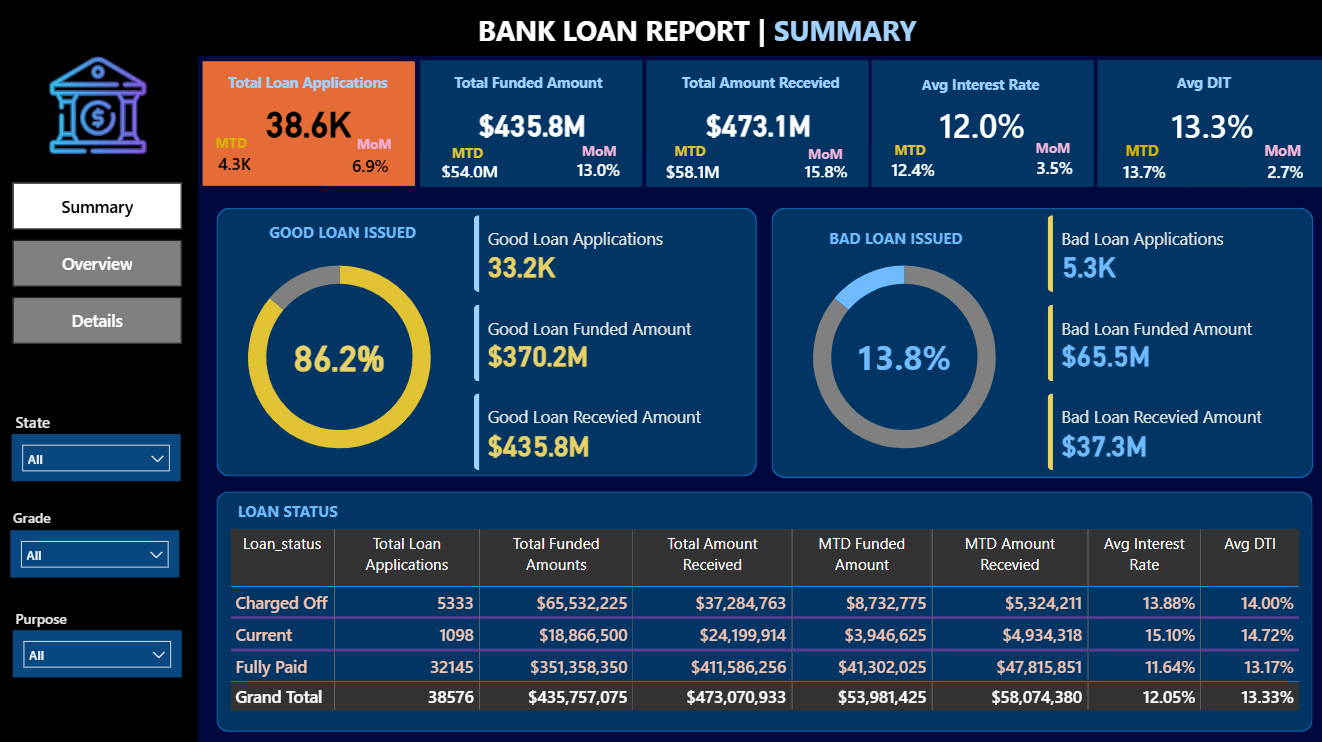

This screenshot's page, from the dashboard's own definition file:
{"tool":"powerbi","page":{"name":"Summary","canvas":[1280,720],"ordinal":0},"visuals":[{"type":"cardVisual","fields":{"Data":["financial_loan.Total Funded Amounts"]},"box":[406.6,59,214.1,122.1],"z":0,"group":"g1"},{"type":"cardVisual","fields":{"Data":["financial_loan.Avg DTI"]},"box":[1060.7,59,220.1,122.1],"z":0,"group":"g3"},{"type":"cardVisual","fields":{"Data":["financial_loan.Total Amount Received"]},"box":[624.7,59.1,214,122],"z":0,"group":"g4"},{"type":"cardVisual","fields":{"Data":["financial_loan.Total Loan Applications"]},"box":[196.2,59.9,204.6,119.8],"z":0},{"type":"cardVisual","fields":{"Data":["financial_loan.Avg Interest Rate"]},"box":[841.9,59,214.1,122.1],"z":1000,"group":"g2"},{"type":"textbox","box":[434,65.9,172.9,32.9],"z":1000,"group":"g1"},{"type":"textbox","box":[653.5,66,183.9,38.4],"z":1000,"group":"g4"},{"type":"cardVisual","fields":{"Data":["financial_loan.MTD Avg DIT"]},"box":[1060.7,146.8,88.9,34.3],"z":1000,"group":"g3"},{"type":"shape","box":[209.9,201.7,521.4,259.3],"z":1000},{"type":"shape","box":[0,0,1280,54.9],"z":2000},{"type":"cardVisual","fields":{"Data":["financial_loan.MoM Avg DIT"]},"box":[1200.4,146.8,80.4,34.3],"z":2000,"group":"g3"},{"type":"cardVisual","title":"MTD ","fields":{"Data":["financial_loan.MTD Amount Recevied"]},"box":[624.7,148.3,87.8,31.6],"z":2000,"group":"g4"},{"type":"cardVisual","title":"MTD ","fields":{"Data":["financial_loan.MTD Funded Amount"]},"box":[406.6,148.4,93.7,30.2],"z":2000,"group":"g1"},{"type":"textbox","box":[1081.9,131.7,48,34.3],"z":3000,"group":"g3"},{"type":"cardVisual","title":"MoM","fields":{"Data":["financial_loan.MoM Loan Applications"]},"box":[315.7,137.1,83.5,42.1],"z":3000},{"type":"cardVisual","title":"MTD ","fields":{"Data":["financial_loan.MoM Funded Amount"]},"box":[533.9,143.4,86.7,37.8],"z":3000,"group":"g1"},{"type":"cardVisual","title":"MTD ","fields":{"Data":["financial_loan.MoM Amount Recevied"]},"box":[757.8,148.3,79.6,30.2],"z":3000,"group":"g4"},{"type":"shape","box":[0,54.9,192.1,665.5],"z":4000},{"type":"textbox","box":[1215.9,131.7,52.2,34.3],"z":4000,"group":"g3"},{"type":"textbox","box":[557.7,132,51.8,29],"z":4000,"group":"g1"},{"type":"textbox","box":[775.6,134.6,45.3,31.6],"z":4000,"group":"g4"},{"type":"textbox","box":[1132.1,65.9,130.4,34.3],"z":5000,"group":"g3"},{"type":"textbox","box":[216.4,66.9,172.8,32.3],"z":5000},{"type":"textbox","box":[646.7,133.2,43.9,32.9],"z":5000,"group":"g4"},{"type":"textbox","box":[431.8,133.3,46.2,32.7],"z":5000,"group":"g1"},{"type":"cardVisual","title":"MTD ","fields":{"Data":["financial_loan.MTD Loan Applications"]},"box":[197.7,135.7,57.6,42.1],"z":6000},{"type":"textbox","box":[456.9,6.9,441.9,48],"z":7000},{"type":"textbox","box":[885.8,67.2,172.9,34.3],"z":7000,"group":"g2"},{"type":"textbox","box":[340.3,125.7,59,30.2],"z":8000},{"type":"cardVisual","fields":{"Data":["financial_loan.MoM Interest rate"]},"box":[979.1,141.3,76.8,39.8],"z":8000,"group":"g2"},{"type":"textbox","box":[203.4,124.5,49,29.5],"z":9000},{"type":"cardVisual","fields":{"Data":["financial_loan.MTD Avg Interest rate"]},"box":[841.9,142.7,78.2,38.4],"z":9000,"group":"g2"},{"type":"group","id":"g1","title":"Group 3","box":[406.6,59,214.1,122.1],"z":10000},{"type":"textbox","box":[995.6,129,52.1,28.8],"z":10000,"group":"g2"},{"type":"group","id":"g2","title":"Group 5","box":[841.9,59,216.8,122.1],"z":11000},{"type":"textbox","box":[858.4,131.7,46.7,32.9],"z":11000,"group":"g2"},{"type":"group","id":"g3","title":"Group 4","box":[1060.7,59,219.6,122.1],"z":12000},{"type":"group","id":"g4","title":"Group 1","box":[624.7,59.1,214.1,122.1],"z":13000},{"type":"shape","box":[745.1,201.7,522.8,260.7],"z":14000},{"type":"donutChart","fields":{"Category":["financial_loan.Good vs Bad Loan"],"Y":["financial_loan.Total Loan Applications"]},"box":[204.5,230.5,249.7,230.5],"z":15000},{"type":"cardVisual","fields":{"Data":["financial_loan.Good Loan %"]},"box":[264.8,318.4,124.9,53.5],"z":16000},{"type":"textbox","box":[255.8,209.9,164.1,37.4],"z":17000},{"type":"cardVisual","fields":{"Data":["financial_loan.Good Loan Applications","financial_loan.Good Loan Funded Amount","financial_loan.Good Loan Recevied Amount"]},"box":[454.2,204.5,244.3,258],"z":18000},{"type":"donutChart","fields":{"Category":["financial_loan.Good vs Bad Loan"],"Y":["financial_loan.Total Loan Applications"]},"box":[749.2,230.5,249.7,230.5],"z":19000},{"type":"textbox","box":[795.9,215.4,164.7,37],"z":20000},{"type":"cardVisual","fields":{"Data":["financial_loan.Bad Loan Applications","financial_loan.Bad Loan Funded Amount","financial_loan.Bad Loan Recevied Amount"]},"box":[1007.2,204.5,244.3,258],"z":21000},{"type":"cardVisual","fields":{"Data":["financial_loan.Bad Loan %"]},"box":[815.1,318.4,113.9,49.4],"z":22000},{"type":"shape","box":[209.9,474.8,1058,231.9],"z":23000},{"type":"tableEx","fields":{"Values":["financial_loan.loan_status","financial_loan.Total Loan Applications","financial_loan.Total Funded Amounts","financial_loan.Total Amount Received","financial_loan.MTD Funded Amount","financial_loan.MTD Amount Recevied","financial_loan.Avg Interest Rate","financial_loan.Avg DTI"]},"box":[216.8,506.3,1045.6,190.7],"z":24000},{"type":"textbox","box":[225,478.9,315.6,83.7],"z":25000},{"type":"slicer","fields":{"Values":["financial_loan.address_state"]},"box":[12.1,419.8,162.9,45.8],"z":26000},{"type":"textbox","box":[10.9,393.3,66.4,35],"z":27000},{"type":"slicer","fields":{"Values":["financial_loan.grade"]},"box":[10.9,512.7,162.9,45.8],"z":28000},{"type":"slicer","fields":{"Values":["financial_loan.purpose"]},"box":[13.3,609.3,162.9,45.8],"z":29000},{"type":"textbox","box":[8.4,486.2,73.6,35],"z":30000},{"type":"textbox","box":[10.9,583.9,74.8,35],"z":31000},{"type":"image","box":[10.1,0,163,202],"z":32000},{"type":"pageNavigator","box":[13,177.5,163,155.8],"z":33000}]}

Visuals, with their boxes in screenshot pixels (x1, y1, x2, y2), scaled from the page's 1280x720 canvas onto the 1322x742 screenshot:
cardVisual - financial_loan.Total Funded Amounts: rect(420, 61, 641, 187)
cardVisual - financial_loan.Avg DTI: rect(1096, 61, 1321, 187)
cardVisual - financial_loan.Total Amount Received: rect(645, 61, 866, 187)
cardVisual - financial_loan.Total Loan Applications: rect(203, 62, 414, 185)
cardVisual - financial_loan.Avg Interest Rate: rect(870, 61, 1091, 187)
textbox: rect(448, 68, 627, 102)
textbox: rect(675, 68, 865, 108)
cardVisual - financial_loan.MTD Avg DIT: rect(1096, 151, 1187, 187)
shape: rect(217, 208, 755, 475)
shape: rect(0, 0, 1321, 57)
cardVisual - financial_loan.MoM Avg DIT: rect(1240, 151, 1321, 187)
"MTD " cardVisual: rect(645, 153, 736, 185)
"MTD " cardVisual: rect(420, 153, 517, 184)
textbox: rect(1117, 136, 1167, 171)
"MoM" cardVisual: rect(326, 141, 412, 185)
"MTD " cardVisual: rect(551, 148, 641, 187)
"MTD " cardVisual: rect(783, 153, 865, 184)
shape: rect(0, 57, 198, 741)
textbox: rect(1256, 136, 1310, 171)
textbox: rect(576, 136, 629, 166)
textbox: rect(801, 139, 848, 171)
textbox: rect(1169, 68, 1304, 103)
textbox: rect(224, 69, 402, 102)
textbox: rect(668, 137, 713, 171)
textbox: rect(446, 137, 494, 171)
"MTD " cardVisual: rect(204, 140, 264, 183)
textbox: rect(472, 7, 928, 57)
textbox: rect(915, 69, 1093, 105)
textbox: rect(351, 130, 412, 161)
cardVisual - financial_loan.MoM Interest rate: rect(1011, 146, 1091, 187)
textbox: rect(210, 128, 261, 159)
cardVisual - financial_loan.MTD Avg Interest rate: rect(870, 147, 950, 187)
"Group 3" group: rect(420, 61, 641, 187)
textbox: rect(1028, 133, 1082, 163)
"Group 5" group: rect(870, 61, 1093, 187)
textbox: rect(887, 136, 935, 170)
"Group 4" group: rect(1096, 61, 1321, 187)
"Group 1" group: rect(645, 61, 866, 187)
shape: rect(770, 208, 1310, 477)
donutChart - financial_loan.Good vs Bad Loan x financial_loan.Total Loan Applications: rect(211, 238, 469, 475)
cardVisual - financial_loan.Good Loan %: rect(273, 328, 402, 383)
textbox: rect(264, 216, 434, 255)
cardVisual - financial_loan.Good Loan Applications x financial_loan.Good Loan Funded Amount: rect(469, 211, 721, 477)
donutChart - financial_loan.Good vs Bad Loan x financial_loan.Total Loan Applications: rect(774, 238, 1032, 475)
textbox: rect(822, 222, 992, 260)
cardVisual - financial_loan.Bad Loan Applications x financial_loan.Bad Loan Funded Amount: rect(1040, 211, 1293, 477)
cardVisual - financial_loan.Bad Loan %: rect(842, 328, 959, 379)
shape: rect(217, 489, 1310, 728)
tableEx - financial_loan.loan_status x financial_loan.Total Loan Applications: rect(224, 522, 1304, 718)
textbox: rect(232, 494, 558, 580)
slicer - financial_loan.address_state: rect(12, 433, 181, 480)
textbox: rect(11, 405, 80, 441)
slicer - financial_loan.grade: rect(11, 528, 180, 576)
slicer - financial_loan.purpose: rect(14, 628, 182, 675)
textbox: rect(9, 501, 85, 537)
textbox: rect(11, 602, 89, 638)
image: rect(10, 0, 179, 208)
pageNavigator: rect(13, 183, 182, 343)
